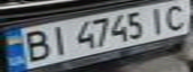4: (72, 18, 96, 51), (109, 11, 133, 44)
5: (124, 9, 151, 39)
7: (90, 15, 112, 47)
B: (15, 27, 54, 63)
C: (160, 1, 193, 31)
I: (142, 3, 172, 35), (45, 22, 72, 56)
